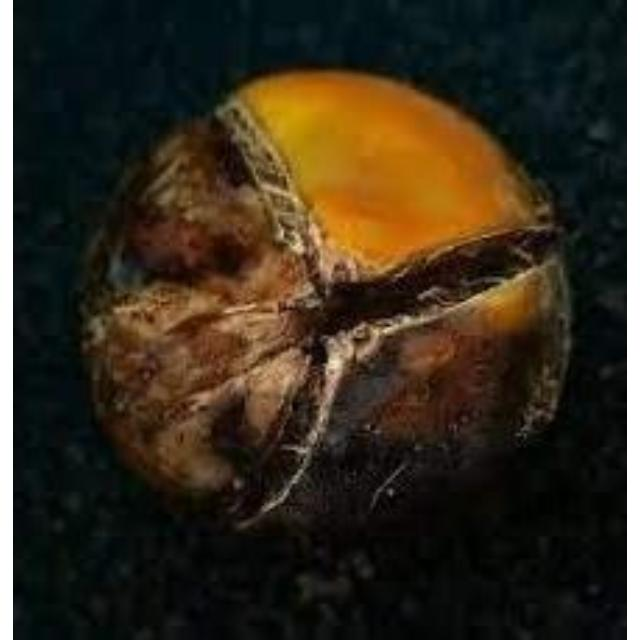damaged: (80, 70, 569, 531)
